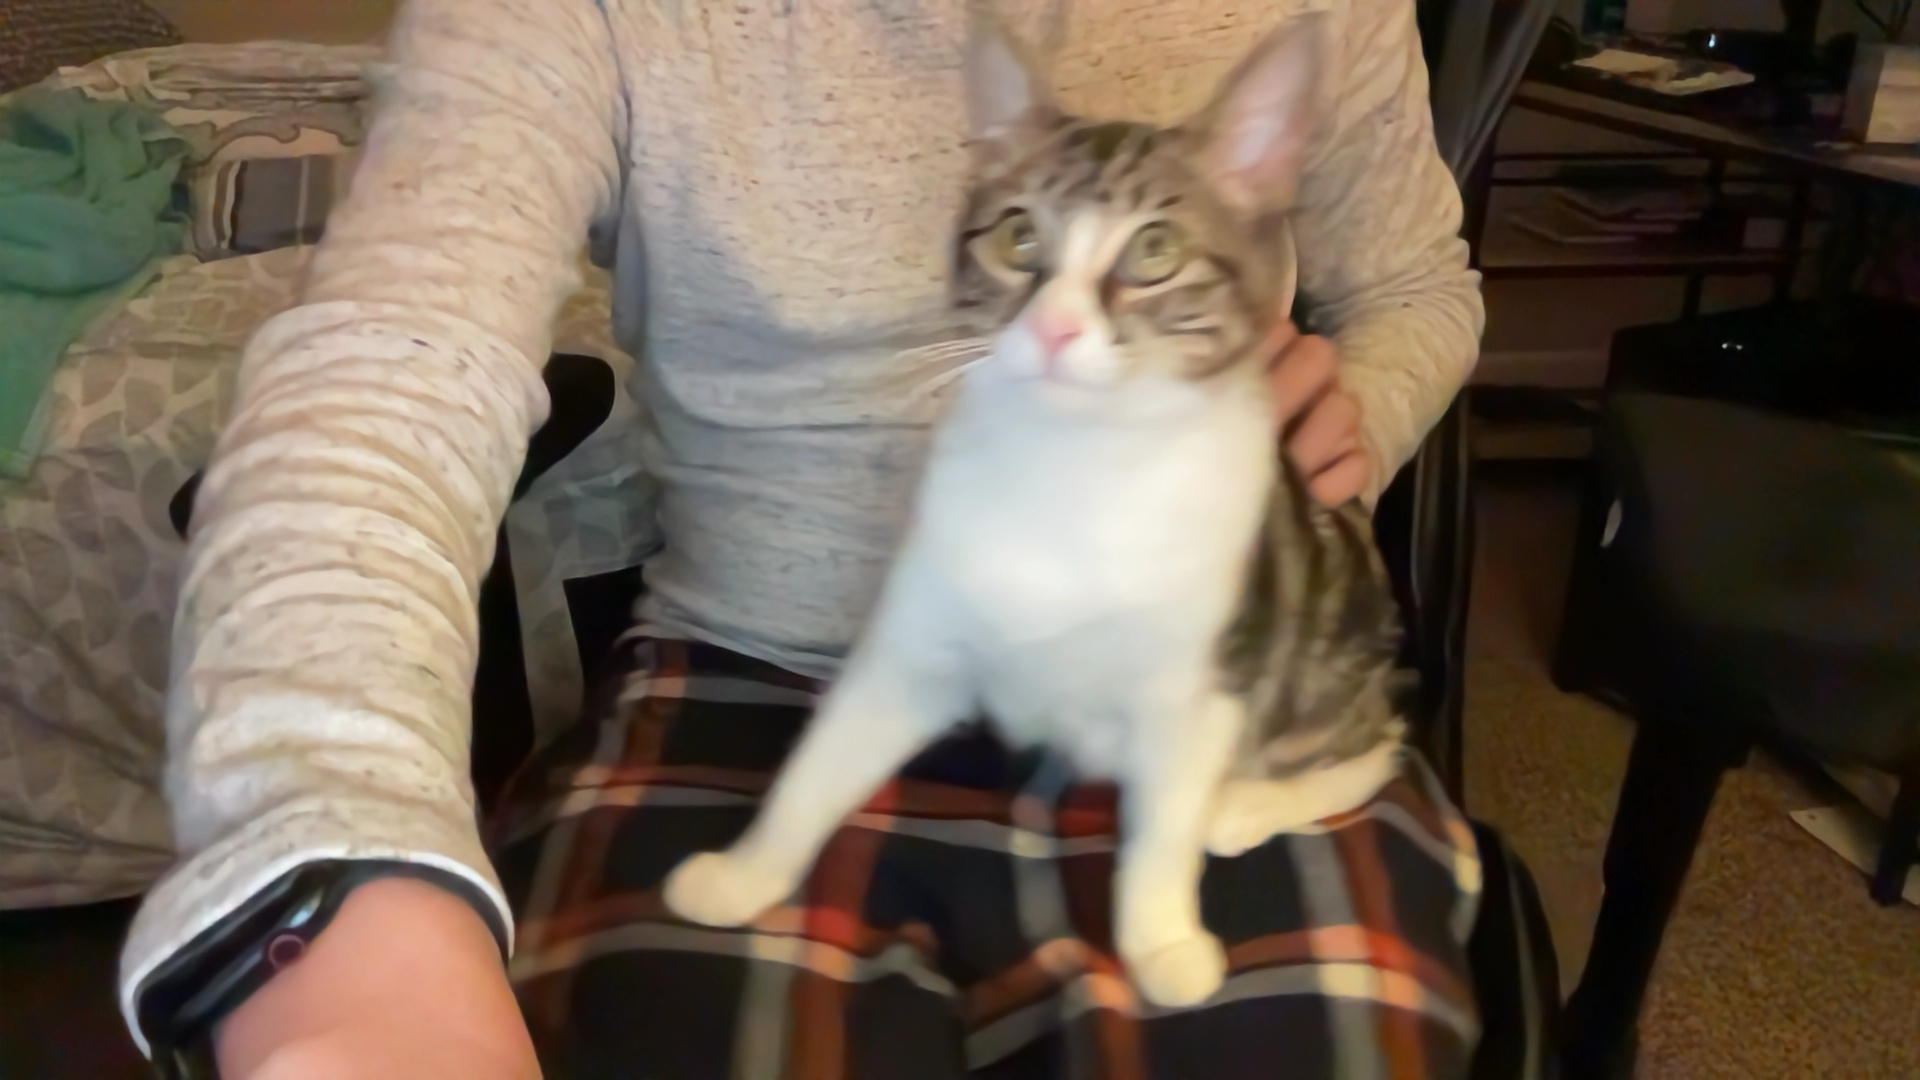cat: (649, 45, 1464, 1036)
